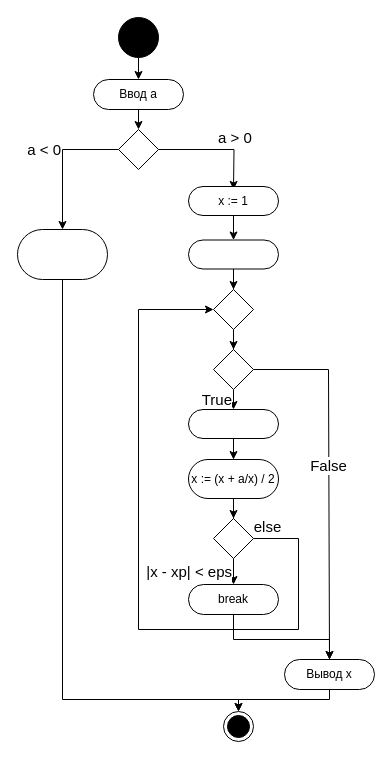
The diagram is 392 pixels wide and 759 high, and some of its shapes have lost their labels. The shapes that lost their labels are listed below. From the top down, each one's centre as x and y in pixels, then its label:
the point at 62,254: Вывод "Неверное значение"
the point at 233,254: eps := 10^(-10)
the point at 233,423: xp := x
